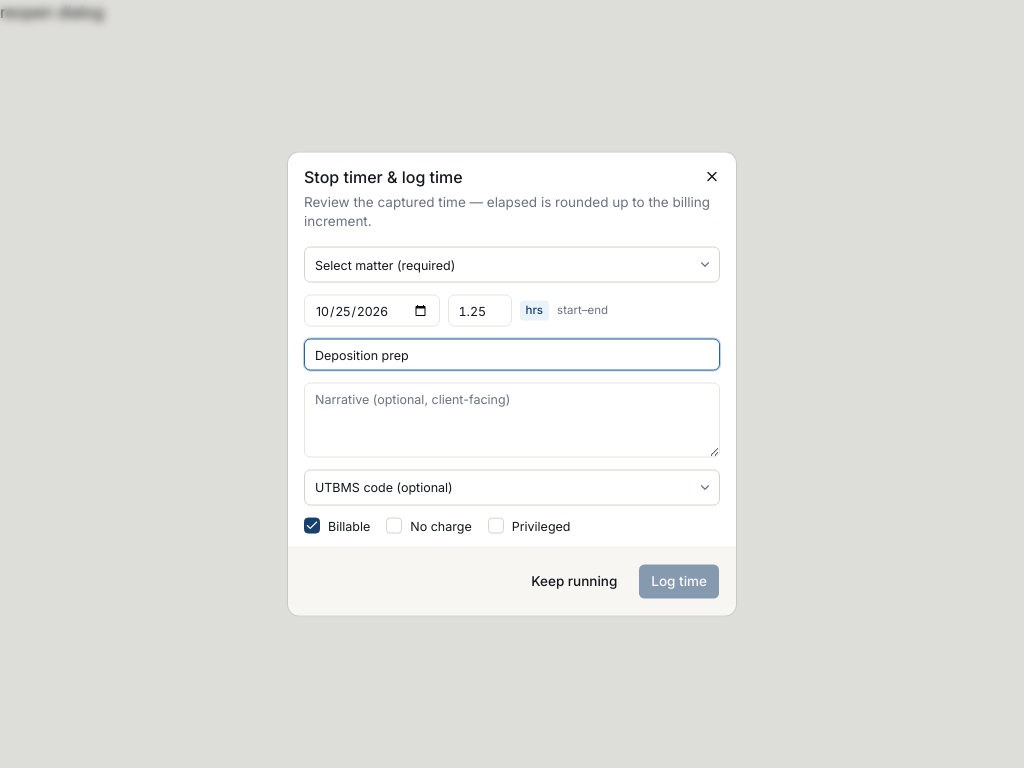
Scenario: StopTimerDialog › Save is disabled until a matter is picked
Check: the button "Log time" is disabled, box [638,564,720,600]
Step 1. Select "Jones v. County" in the dropdown named "Matter" → (512, 264), box [304,246,720,282]
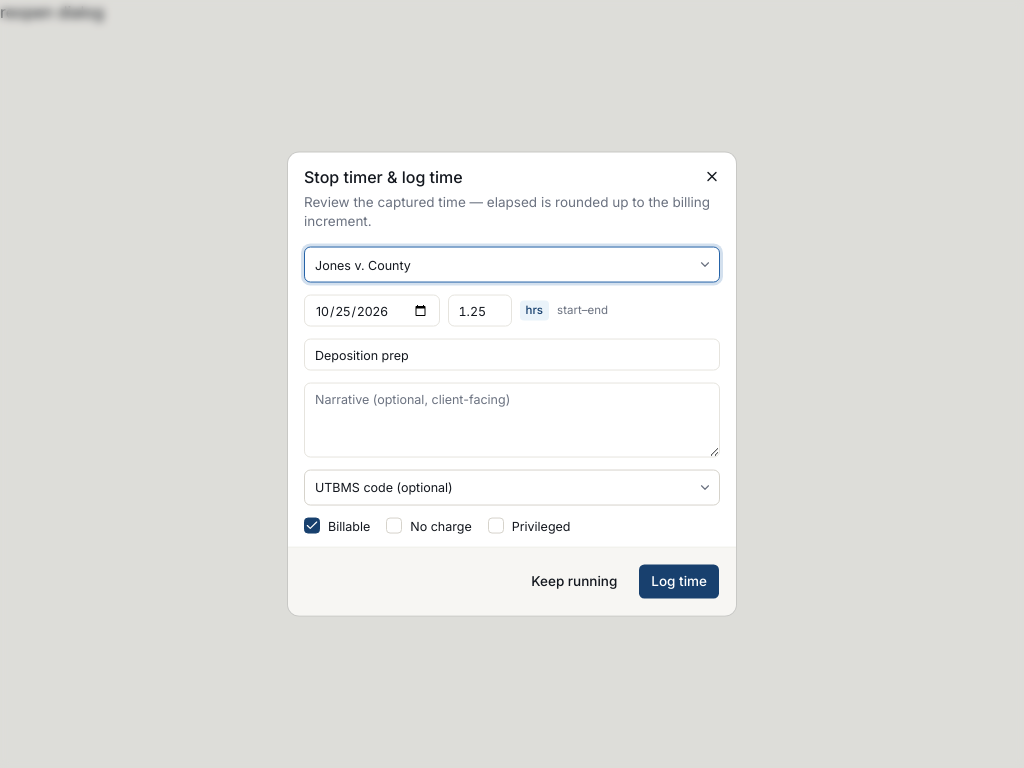
Check: the button "Log time" is enabled, box [638,564,720,600]
